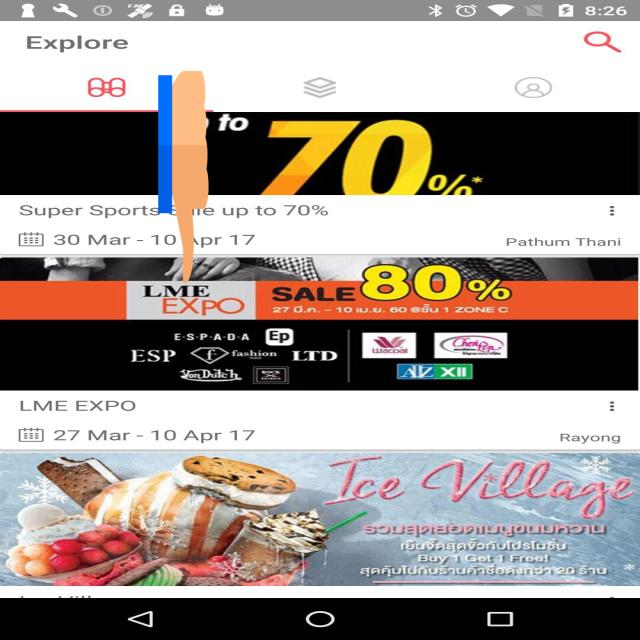obstruction: (158, 65, 209, 288)
